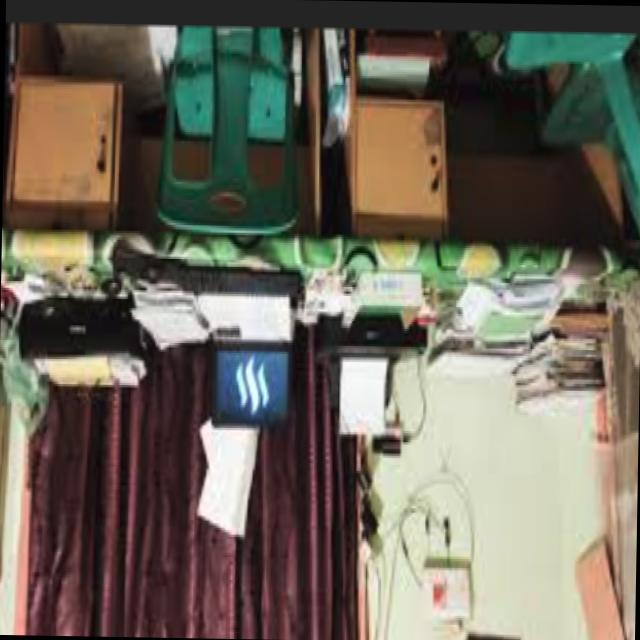KertasBekas: (529, 313, 605, 408), (452, 274, 564, 336), (129, 274, 203, 356), (339, 361, 386, 436), (349, 273, 419, 310)
